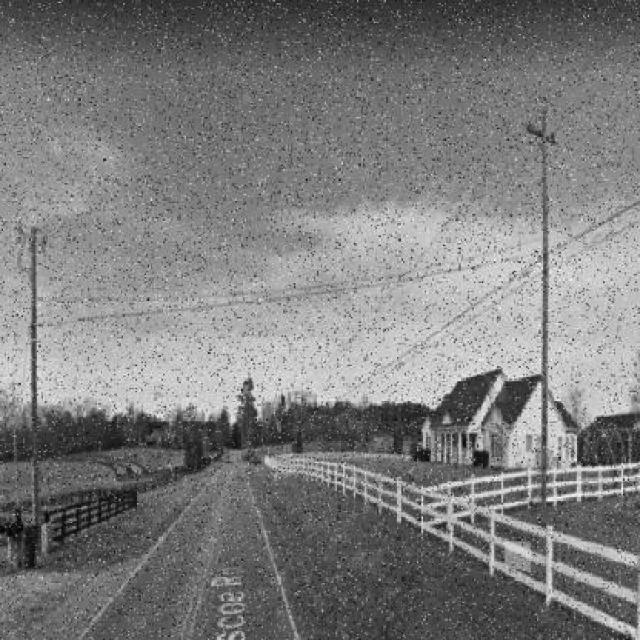crossarm: (530, 126, 562, 145)
pole: (540, 137, 548, 530), (31, 231, 40, 531)
